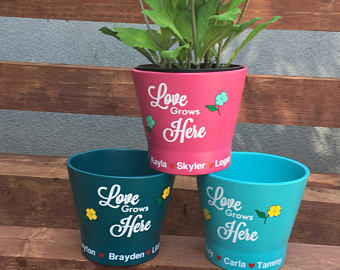flowerpot: (196, 152, 309, 270), (133, 62, 248, 174), (69, 150, 176, 268)
